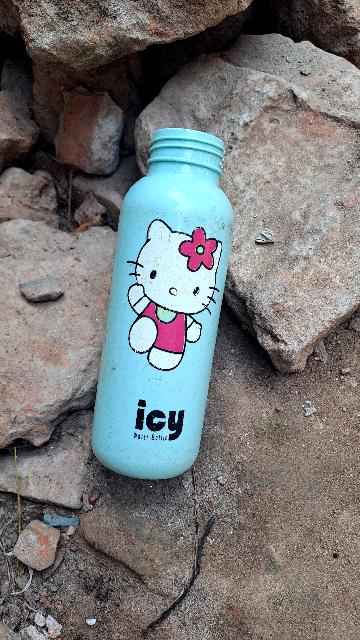bottle: (85, 128, 260, 492)
